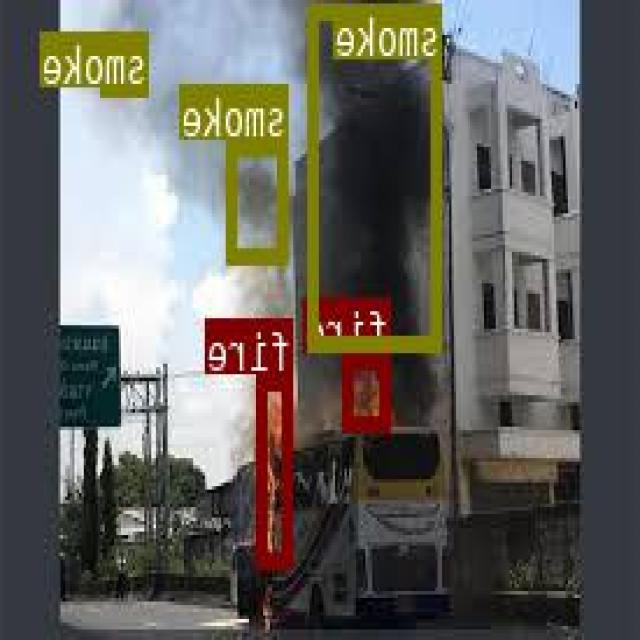fire: (260, 372, 294, 564), (346, 352, 392, 430)
smoke: (312, 3, 444, 349), (229, 140, 289, 260), (104, 32, 149, 92)
